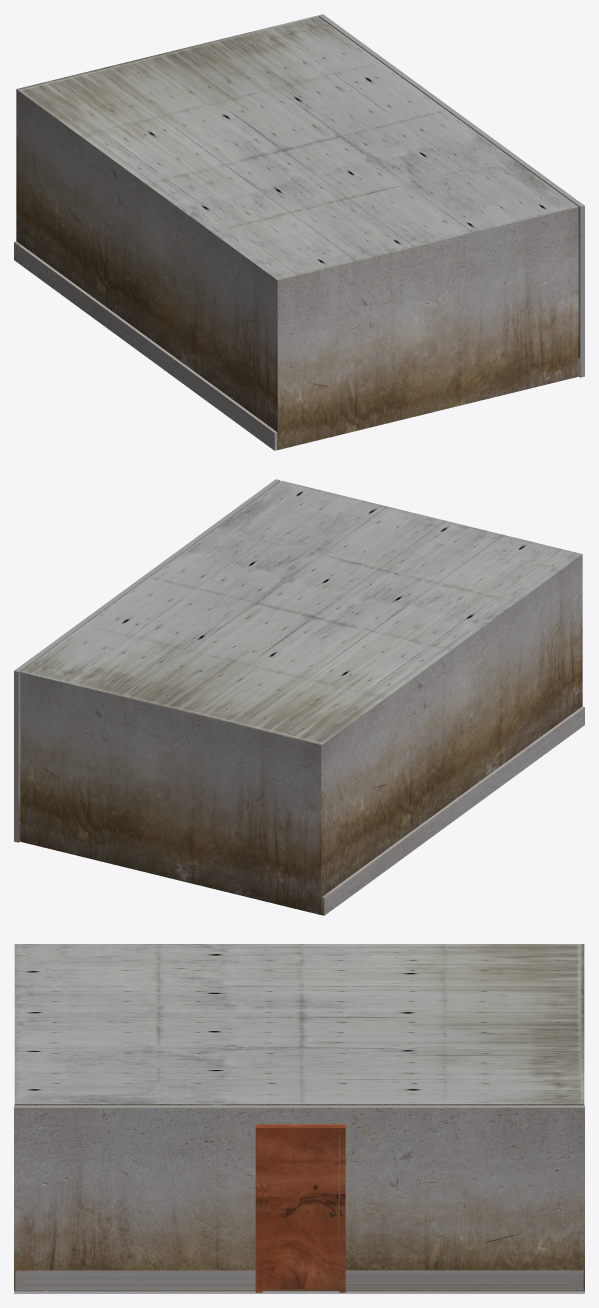
The model's file is Principal_Room.fbx.
The picture shows the model from 3 angles, top to bottom: view 1: azimuth 30°, elevation 25°; view 2: azimuth 150°, elevation 25°; view 3: azimuth 270°, elevation 25°; orthographic projection. The views are drawn at different scales.
Parts seen in each view (by area): view 1: pCube1, pCube2, pCube3; view 2: pCube1, pCube2, pCube3; view 3: pCube1, pCube3, Door1:pCube1, pCube2, Door1:pCube3.
Boxes of the visible parts, left/top/right/bottom form: pCube1: left=16, top=15, right=578, bottom=449; pCube2: left=14, top=241, right=579, bottom=450; pCube3: left=318, top=14, right=584, bottom=377; pCube1: left=20, top=480, right=582, bottom=914; pCube2: left=19, top=706, right=584, bottom=915; pCube3: left=14, top=479, right=280, bottom=842; pCube1: left=14, top=944, right=584, bottom=1105; pCube3: left=14, top=1105, right=584, bottom=1293; Door1:pCube1: left=262, top=1134, right=338, bottom=1289; pCube2: left=15, top=1270, right=583, bottom=1290; Door1:pCube3: left=255, top=1124, right=345, bottom=1292.
Bounding box in the file's own units: 4.67 × 2.45 × 6.79.
7 materials, 5 textured.
